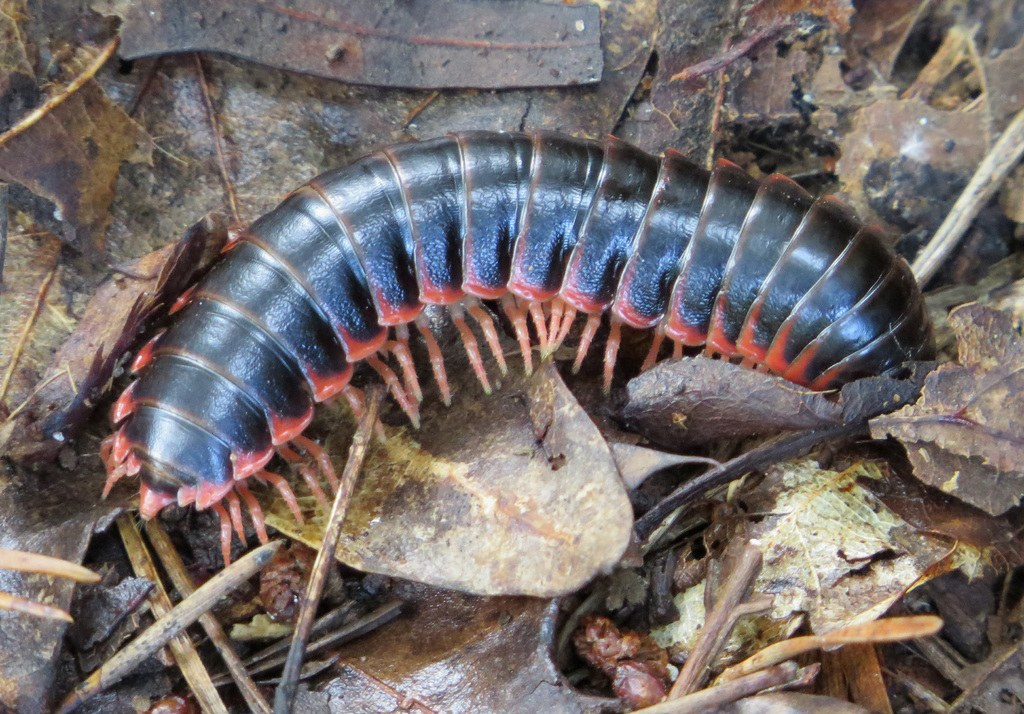insect: (0, 122, 953, 637), (102, 133, 938, 570), (115, 126, 934, 527)
